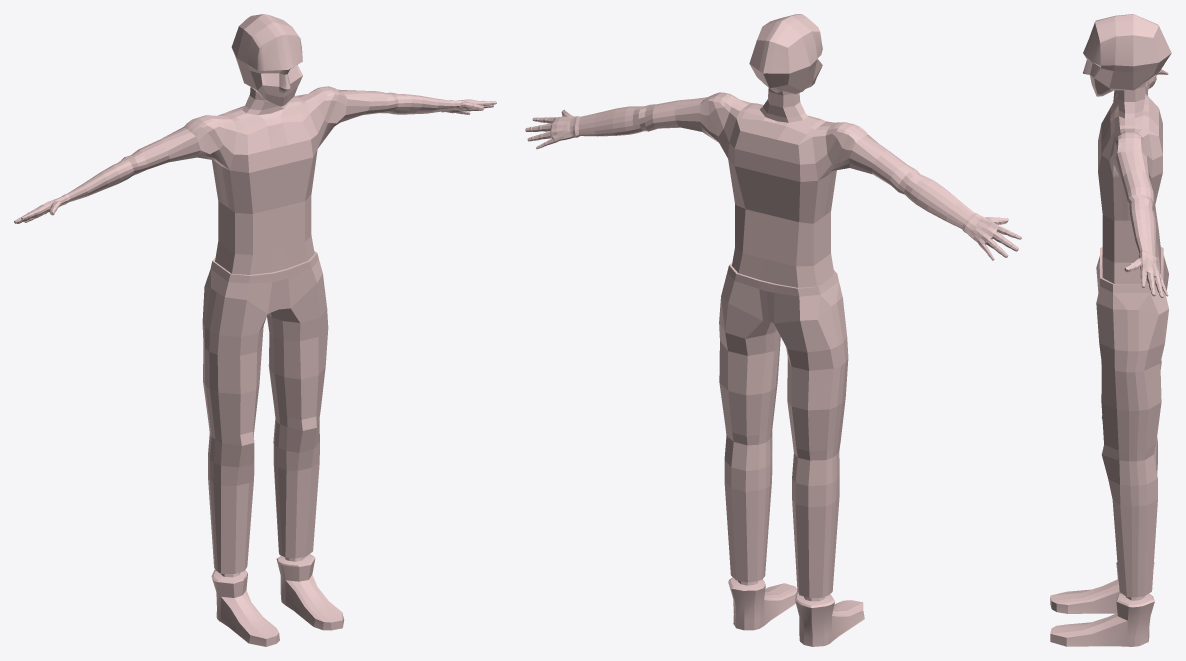
The model's file is char1 (2).fbx.
The picture shows the model from 3 angles, left to right: view 1: azimuth 30°, elevation 25°; view 2: azimuth 150°, elevation 25°; view 3: azimuth 270°, elevation 25°; orthographic projection. The views are drawn at different scales.
Visible parts, largest first — view 1: polySurface15; view 2: polySurface15; view 3: polySurface15.
Part boxes in pixels (<box>): polySurface15: <box>14,14,496,646</box>; polySurface15: <box>525,14,1021,646</box>; polySurface15: <box>1050,14,1171,646</box>.
Bounding box in the file's own units: 2.2 × 2.61 × 0.4713.
